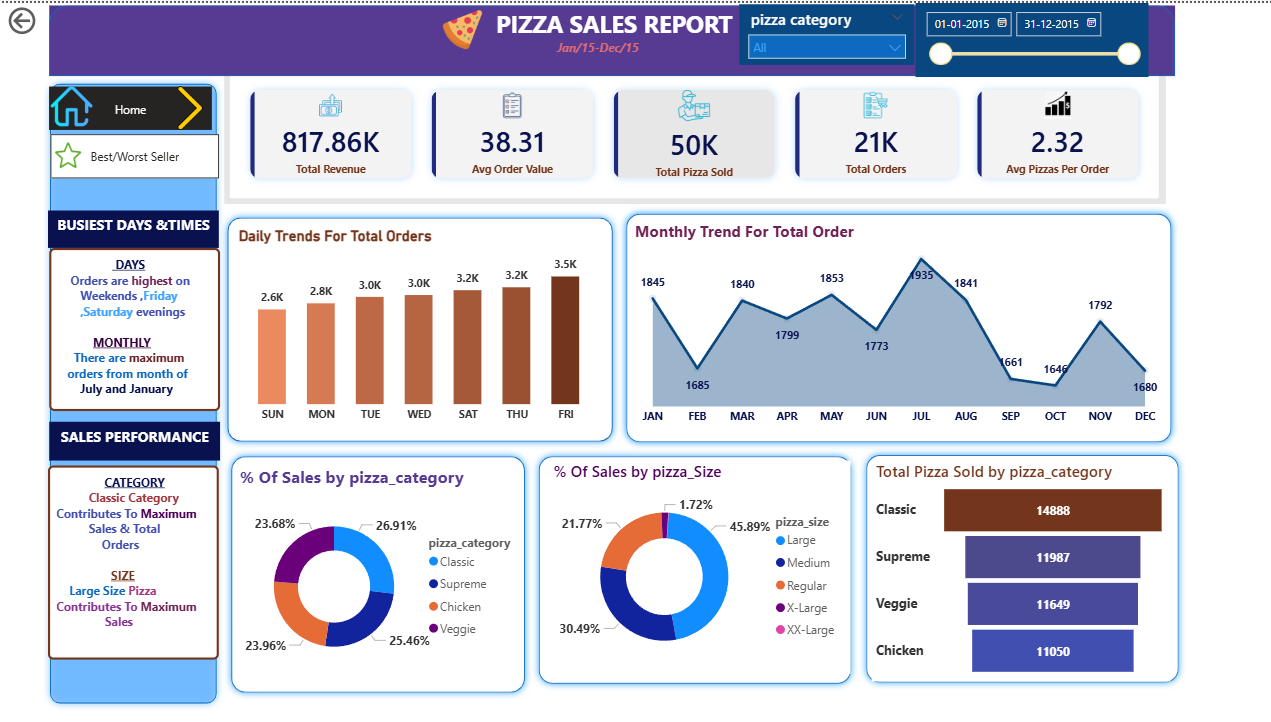

What the dashboard file says about the page in this screenshot:
{"tool":"powerbi","page":{"name":"Home","canvas":[1500,820],"ordinal":0},"visuals":[{"type":"cardVisual","fields":{"Data":["pizza_sales (2).Total Revenue","pizza_sales (2).Avg Order Value","pizza_sales (2).Total Pizza Sold","pizza_sales (2).Total Orders","pizza_sales (2).Avg Pizzas Per Order"]},"box":[262.5,70,1067.5,158.8],"z":0},{"type":"actionButton","box":[206.1,151.2,42.7,40.2],"z":1000},{"type":"shape","box":[64.3,2.9,1275.7,80],"z":2000},{"type":"textbox","box":[555,0,297.5,50],"z":3000},{"type":"textbox","box":[620,36.2,130,33.8],"z":4000},{"type":"image","box":[500,7.5,63.8,46.2],"z":5000},{"type":"shape","box":[257.5,235,452.5,270],"z":6000},{"type":"columnChart","title":"Daily Trends For Total Orders","fields":{"Category":["pizza_sales (2).order day"],"Y":["pizza_sales (2).Total Orders"]},"box":[273.8,253.8,420,231.2],"z":7000},{"type":"shape","box":[710,231.2,633.8,275],"z":8000},{"type":"areaChart","title":"Monthly Trend For Total Order","fields":{"Category":["pizza_sales (2).Order Month"],"Y":["pizza_sales (2).Total Orders"]},"box":[722.9,247.1,608.6,240],"z":9000},{"type":"shape","box":[262.5,506.2,348.8,283.8],"z":10000},{"type":"shape","box":[611.2,506.2,370,273.8],"z":11000},{"type":"shape","box":[981.2,505,370,273.8],"z":12000},{"type":"donutChart","title":"% Of Sales by pizza_category","fields":{"Category":["pizza_sales (2).pizza_category"],"Y":["pizza_sales (2).Total Revenue"]},"box":[275,523.8,323.8,250],"z":13000},{"type":"donutChart","title":"% Of Sales by pizza_Size","fields":{"Y":["pizza_sales (2).Total Revenue"],"Category":["pizza_sales (2).pizza_size"]},"box":[630,518.8,341.2,241.2],"z":14000},{"type":"funnel","fields":{"Category":["pizza_sales (2).pizza_category"],"Y":["pizza_sales (2).Total Pizza Sold"]},"box":[996,517.1,338.6,250.8],"z":15000},{"type":"shape","box":[57.3,82.9,204.9,718.3],"z":16000},{"type":"textbox","box":[62.5,235,193.8,42.5],"z":17000},{"type":"textbox","box":[63.8,277.5,193.8,185],"z":18000},{"type":"textbox","box":[62.5,523.8,193.8,220],"z":19000},{"type":"textbox","box":[63.8,475,193.8,43.8],"z":20000},{"type":"slicer","fields":{"Values":["pizza_sales (2).pizza_category"]},"box":[846.2,1.2,198.8,68.8],"z":21000},{"type":"slicer","fields":{"Values":["pizza_sales (2).order_date"]},"box":[1045.7,0,262.9,82.9],"z":22000},{"type":"pageNavigator","box":[63.8,94.9,184.2,49.6],"z":23000},{"type":"pageNavigator","box":[65.9,148.8,191.5,50],"z":24000},{"type":"image","box":[198.6,92.9,50,51.4],"z":25000},{"type":"image","box":[57.1,92.9,64.3,47.1],"z":26000},{"type":"image","box":[62.9,157.1,45.7,30],"z":27000},{"type":"actionButton","box":[14.2,7.1,42.5,46.8],"z":28001}]}

Visuals, with their boxes on the page's 1500x820 design canvas (x1, y1, x2, y2). These are canvas units, not pixel positions in the 1271x722 screenshot, which may show the page scaled, cropped or inside an application window:
cardVisual - pizza_sales (2).Total Revenue x pizza_sales (2).Avg Order Value: detection(262, 70, 1330, 229)
actionButton: detection(206, 151, 249, 191)
shape: detection(64, 3, 1340, 83)
textbox: detection(555, 0, 852, 50)
textbox: detection(620, 36, 750, 70)
image: detection(500, 8, 564, 54)
shape: detection(258, 235, 710, 505)
"Daily Trends For Total Orders" columnChart: detection(274, 254, 694, 485)
shape: detection(710, 231, 1344, 506)
"Monthly Trend For Total Order" areaChart: detection(723, 247, 1332, 487)
shape: detection(262, 506, 611, 790)
shape: detection(611, 506, 981, 780)
shape: detection(981, 505, 1351, 779)
"% Of Sales by pizza_category" donutChart: detection(275, 524, 599, 774)
"% Of Sales by pizza_Size" donutChart: detection(630, 519, 971, 760)
funnel - pizza_sales (2).pizza_category x pizza_sales (2).Total Pizza Sold: detection(996, 517, 1335, 768)
shape: detection(57, 83, 262, 801)
textbox: detection(62, 235, 256, 278)
textbox: detection(64, 278, 258, 462)
textbox: detection(62, 524, 256, 744)
textbox: detection(64, 475, 258, 519)
slicer - pizza_sales (2).pizza_category: detection(846, 1, 1045, 70)
slicer - pizza_sales (2).order_date: detection(1046, 0, 1309, 83)
pageNavigator: detection(64, 95, 248, 144)
pageNavigator: detection(66, 149, 257, 199)
image: detection(199, 93, 249, 144)
image: detection(57, 93, 121, 140)
image: detection(63, 157, 109, 187)
actionButton: detection(14, 7, 57, 54)
